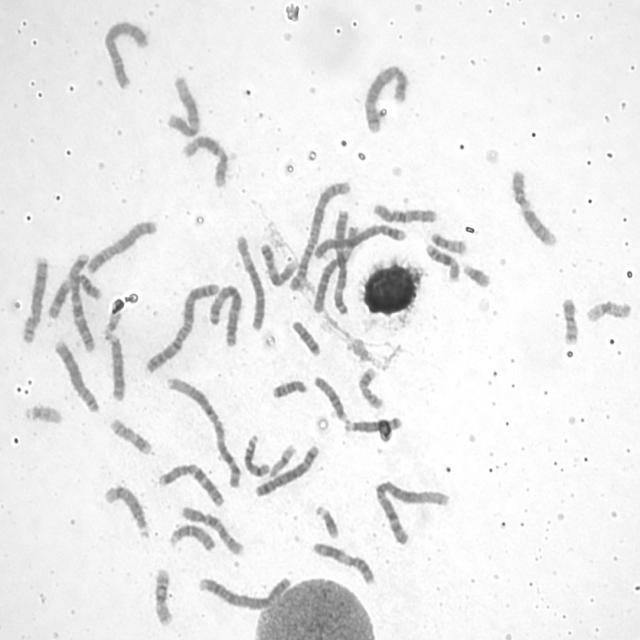A1: (163, 374, 243, 490), (370, 475, 452, 547)
A2: (286, 176, 352, 294), (142, 278, 220, 375)
A3: (206, 281, 244, 348), (331, 206, 354, 316)
B4: (194, 572, 294, 612), (308, 221, 408, 261)
B5: (252, 441, 321, 499), (362, 60, 411, 135)
C10: (178, 503, 245, 557), (370, 200, 439, 224)
C11: (309, 538, 377, 586), (45, 270, 103, 320)
C12: (163, 71, 202, 138), (259, 244, 298, 287)
C6: (309, 218, 361, 315), (232, 230, 266, 332)
C7: (155, 460, 226, 508), (65, 252, 97, 354)
C8: (51, 336, 101, 414), (18, 252, 50, 345)
C9: (508, 165, 559, 248), (178, 131, 230, 189)
D13: (101, 328, 127, 403), (340, 413, 403, 435)
D14: (102, 481, 151, 541), (240, 431, 272, 478)
D15: (310, 372, 350, 423), (165, 521, 218, 554)
E16: (422, 239, 461, 284), (150, 565, 174, 627)
E17: (106, 414, 155, 457), (355, 364, 385, 411)
E18: (288, 316, 322, 358), (269, 376, 308, 400)
F19: (582, 296, 634, 324), (265, 440, 298, 480)
F20: (558, 294, 580, 346), (428, 228, 468, 256)
G21: (312, 501, 341, 541), (459, 259, 492, 290)
G22: (20, 400, 63, 426), (100, 309, 123, 335)
X: (82, 216, 158, 276), (102, 21, 150, 90)
